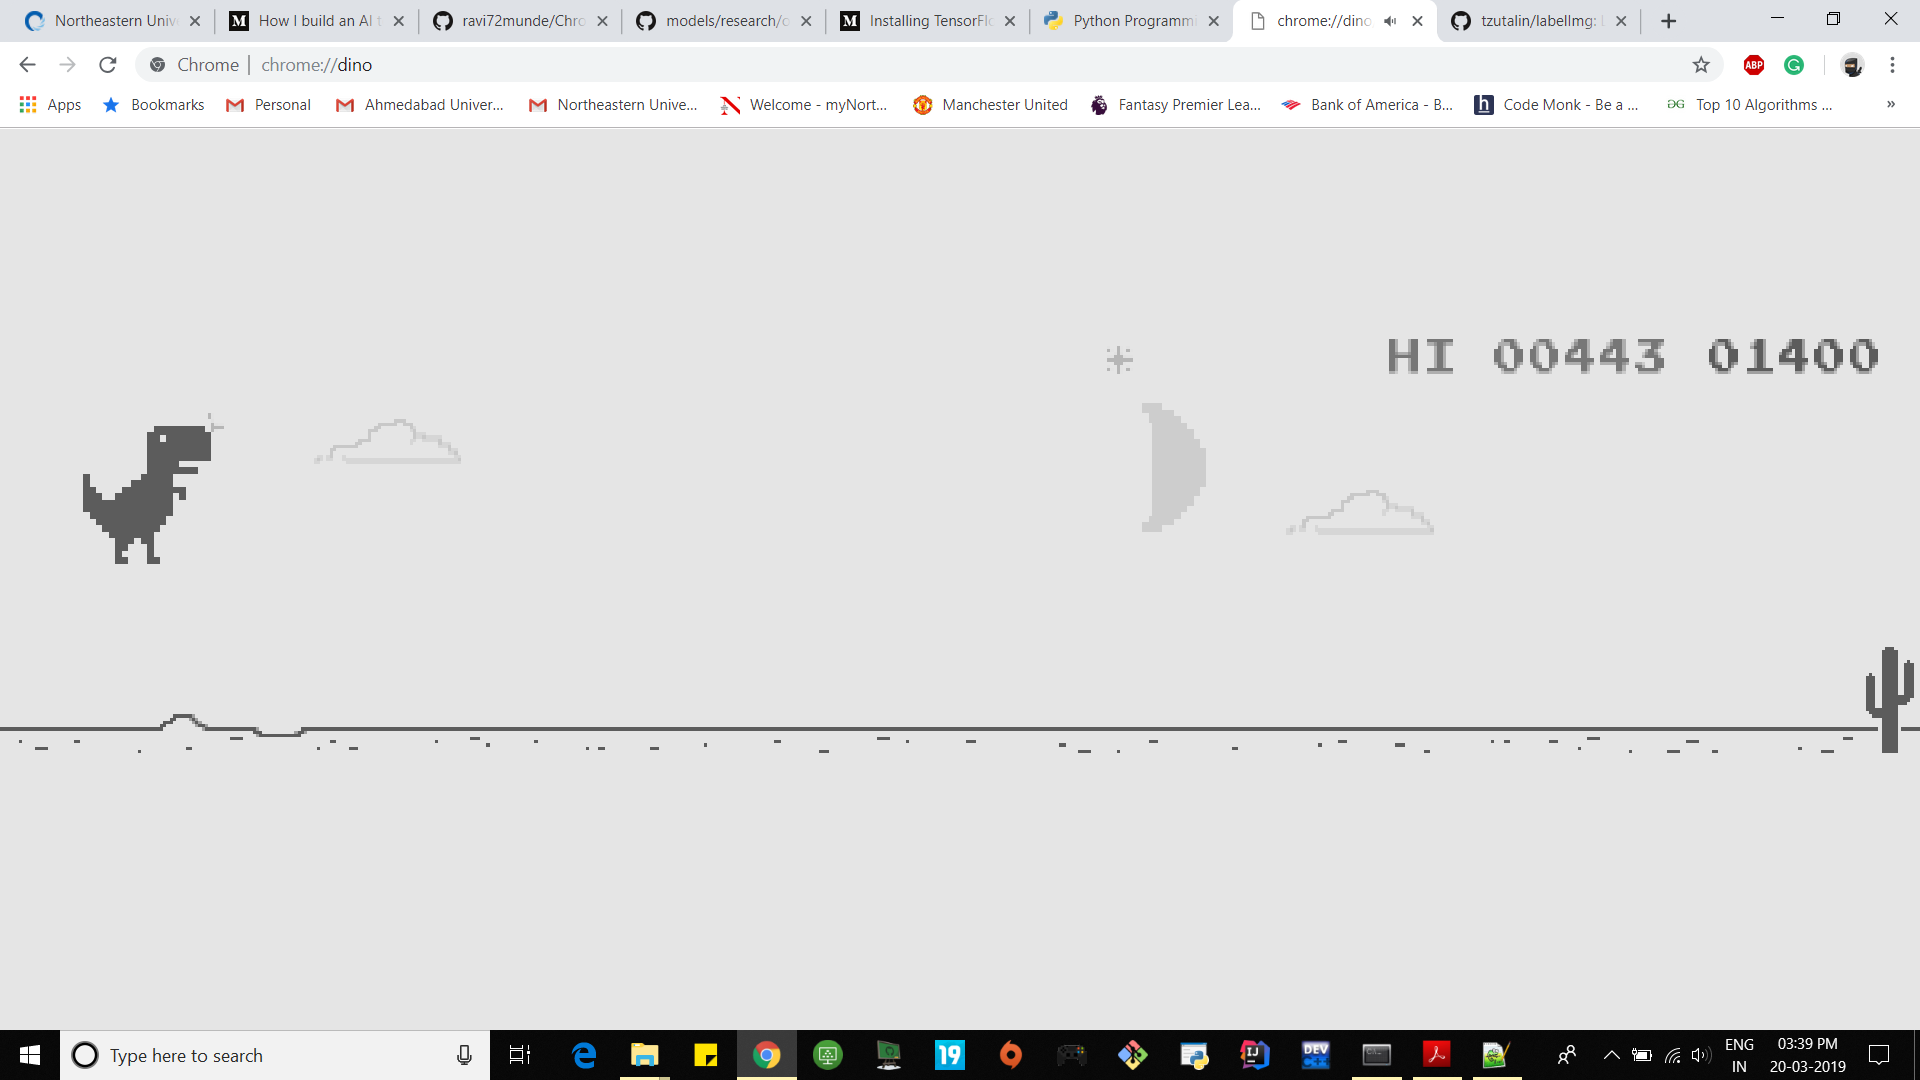cactus-small: (1866, 647, 1917, 756)
dino: (80, 427, 211, 566)
